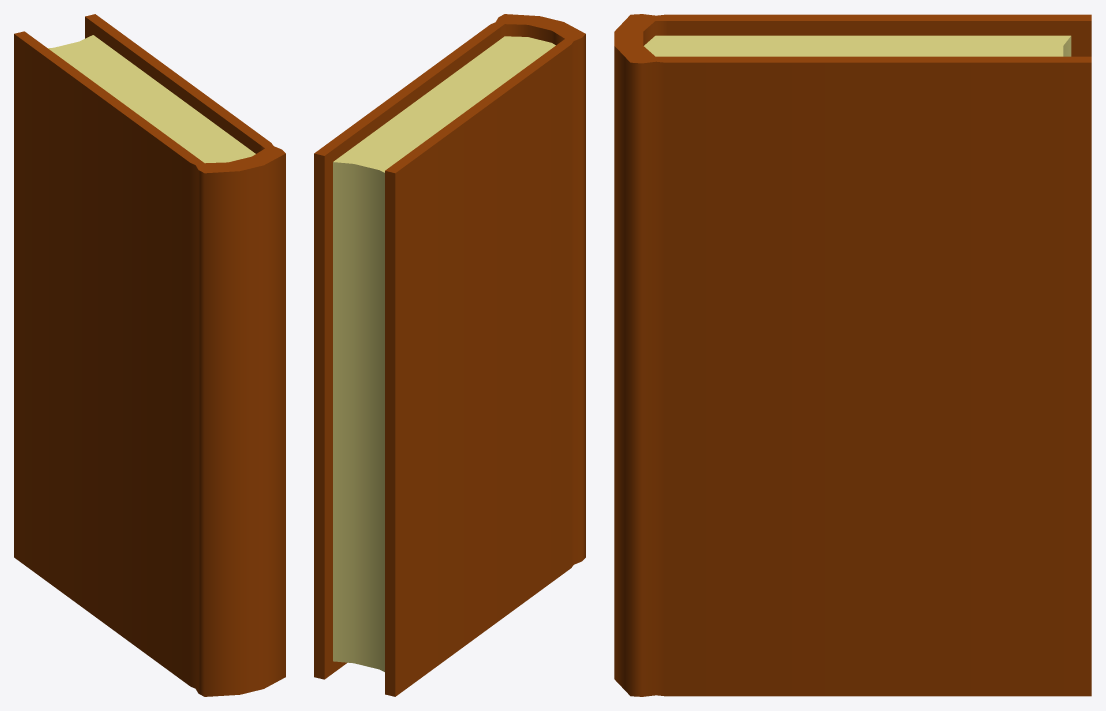
Rendered from book_orange.fbx.
The picture shows the model from 3 angles, left to right: view 1: azimuth 30°, elevation 25°; view 2: azimuth 150°, elevation 25°; view 3: azimuth 270°, elevation 25°; orthographic projection. The views are drawn at different scales.
Parts seen in each view (by area): view 1: Book_Small_Green; view 2: Book_Small_Green; view 3: Book_Small_Green.
Part boxes in pixels (x1,y1,x2,y2): Book_Small_Green: (14, 14, 285, 696); Book_Small_Green: (314, 14, 585, 696); Book_Small_Green: (614, 14, 1091, 696).
Bounding box in the file's own units: 6.3 × 37.64 × 25.69.
